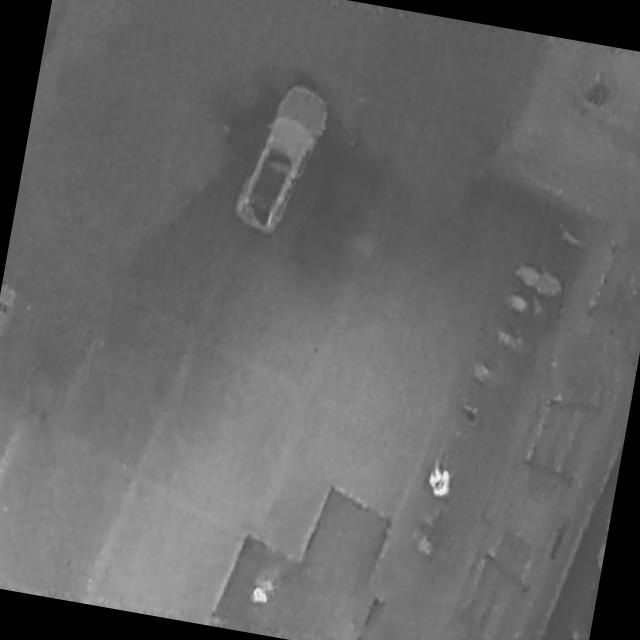person: (423, 462, 456, 501), (249, 583, 272, 606)
